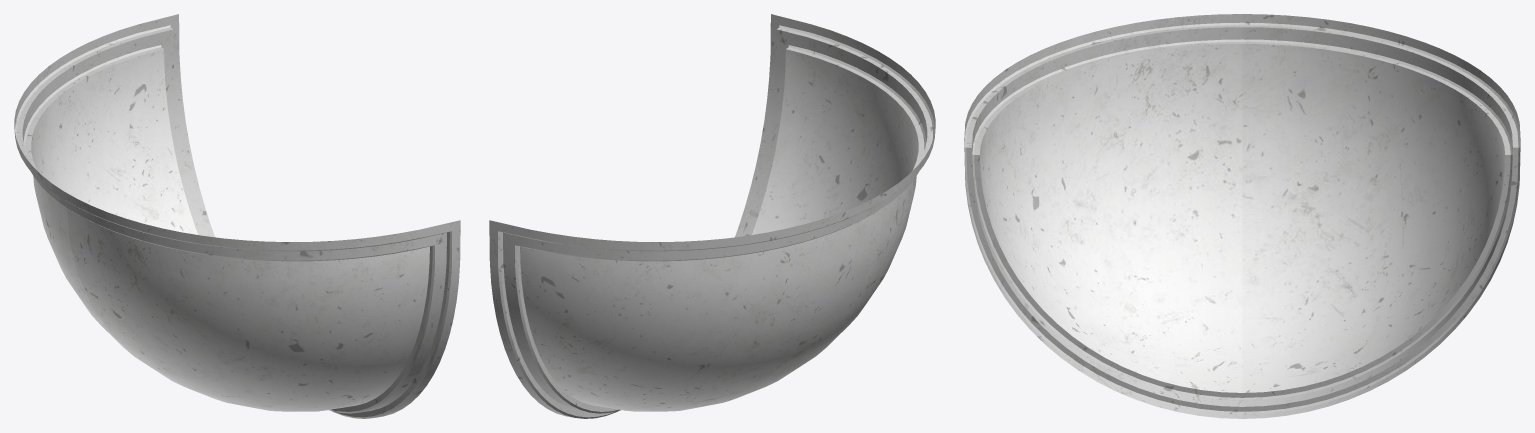
File: SM_Half_Arch_Mirror.glb
3 views of the same model, side by side, from view 1: azimuth 30°, elevation 25°; view 2: azimuth 150°, elevation 25°; view 3: azimuth 270°, elevation 25° (orthographic).
Visible parts, largest first — view 1: SM_Half_Arch_Mirror; view 2: SM_Half_Arch_Mirror; view 3: SM_Half_Arch_Mirror.
Part boxes in pixels (<box>): SM_Half_Arch_Mirror: <box>14,14,460,418</box>; SM_Half_Arch_Mirror: <box>489,14,935,418</box>; SM_Half_Arch_Mirror: <box>964,14,1520,418</box>.
Bounding box in the file's own units: 0.4074 × 0.4074 × 0.7413.
Materials: 2 (2 with a texture image).
